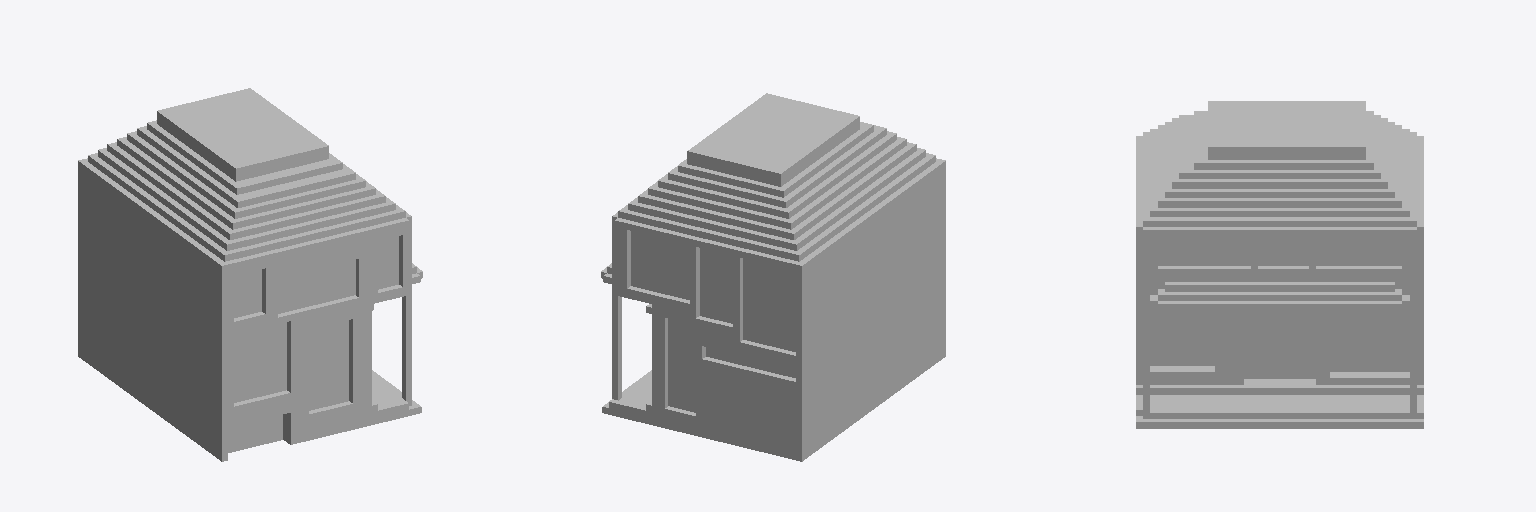
File: Mansion.obj
The picture shows the model from 3 angles: view 1: azimuth 30°, elevation 25°; view 2: azimuth 150°, elevation 25°; view 3: azimuth 270°, elevation 25°; orthographic projection.
Visible parts, largest first — view 1: object 1; view 2: object 1; view 3: object 1.
Boxes of the visible parts, x1=… form: object 1: x1=78, y1=88, x2=422, y2=461; object 1: x1=601, y1=93, x2=945, y2=461; object 1: x1=1136, y1=101, x2=1423, y2=428.
Size of the model in its own units: 3.4 by 3.9 by 4.